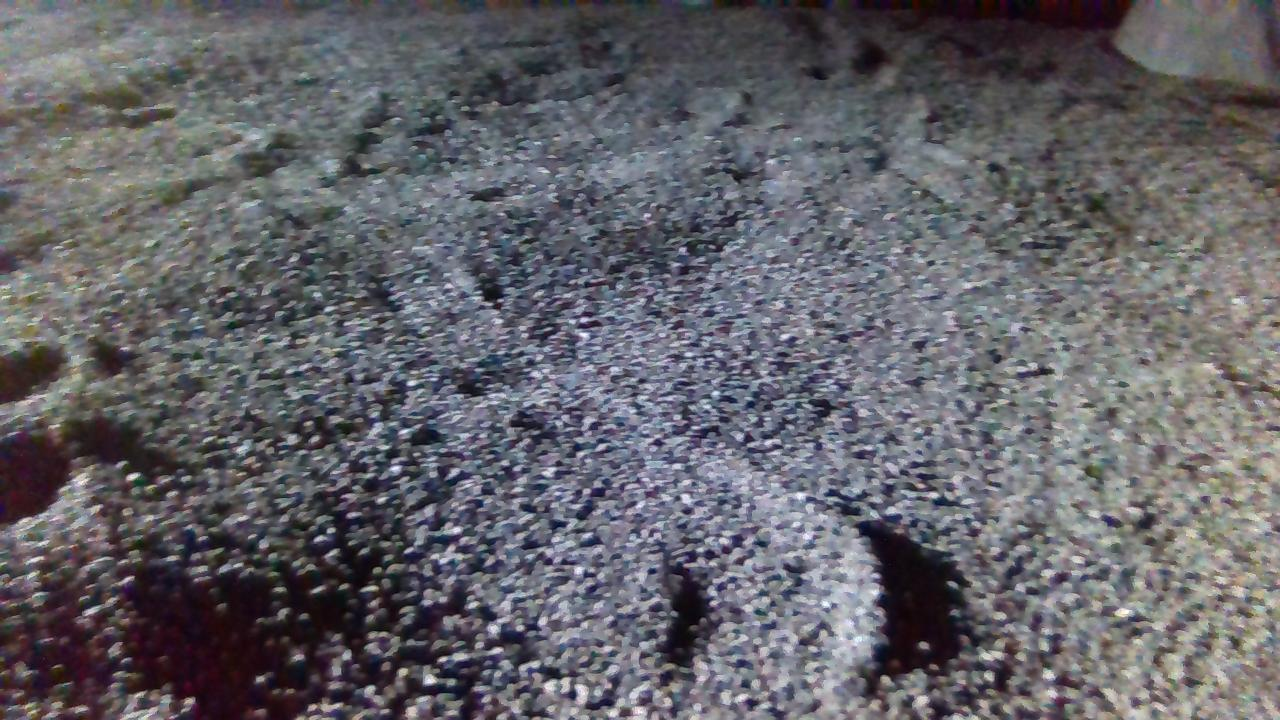rock: (1115, 0, 1280, 86)
